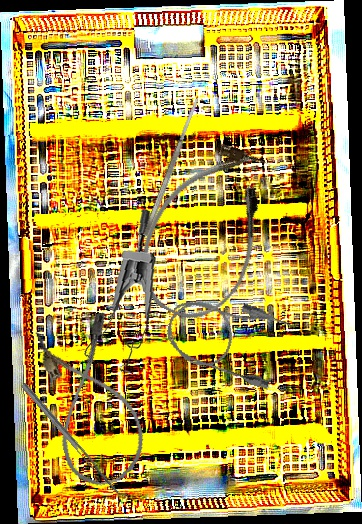Cannula: (120, 128, 294, 335), (31, 310, 154, 493), (159, 283, 297, 392)
Spatula Surgical: (20, 378, 130, 501), (141, 96, 202, 238)
Speculum: (70, 208, 167, 378)
